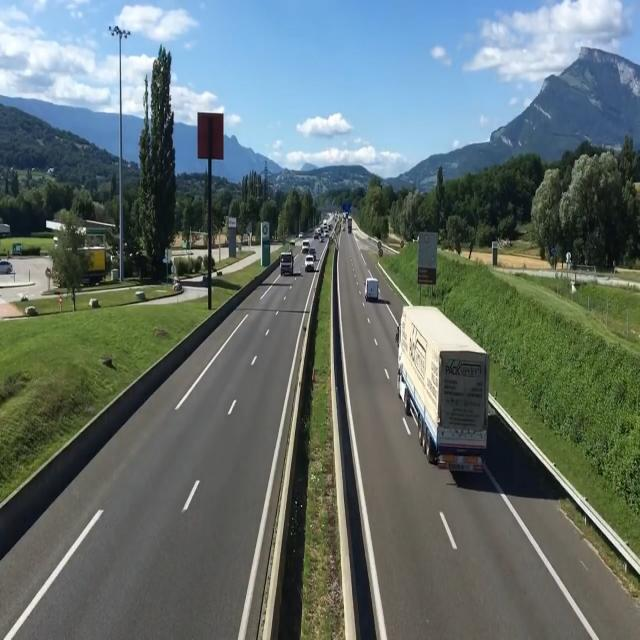car: (364, 274, 383, 306), (302, 239, 319, 274)
truck: (395, 296, 484, 486), (276, 248, 298, 282)
